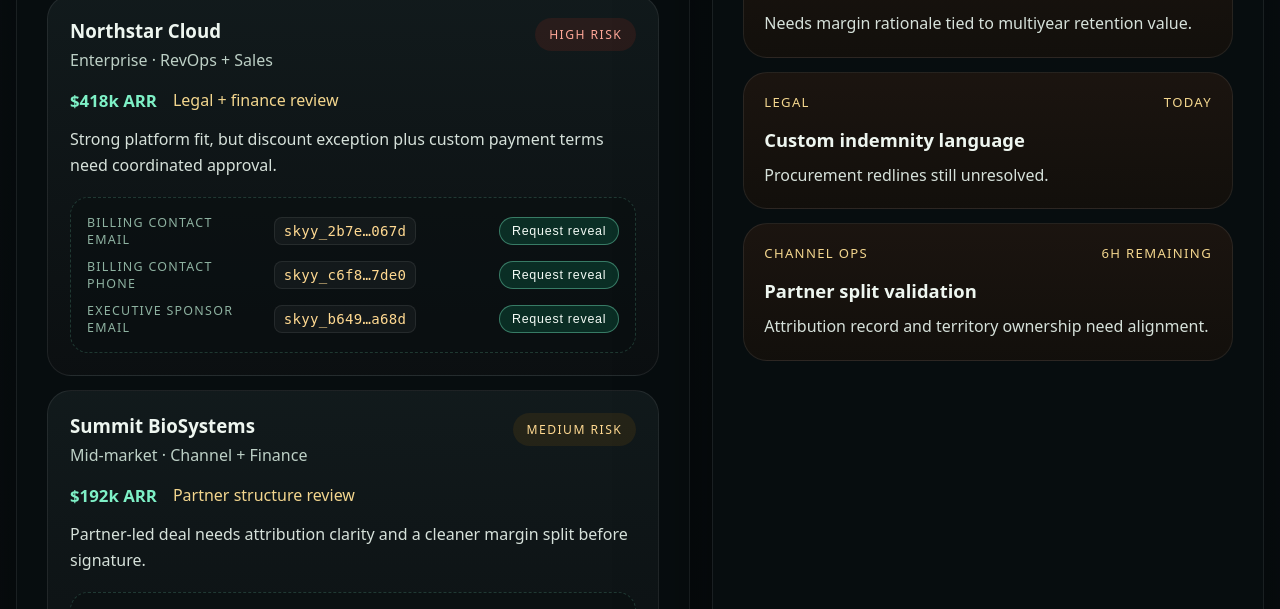
Deal Desk Workspace › blocks reveal for the default Sales Rep role and records a denial in the audit trail
(page scrolled)
Check: the text "skyy_2b7e…067d" is shown, box [274,217,416,245]
Step 1. Click the button with aria-label "reveal billing contact email" → (559, 231), box [499,217,619,245]
(page scrolled)
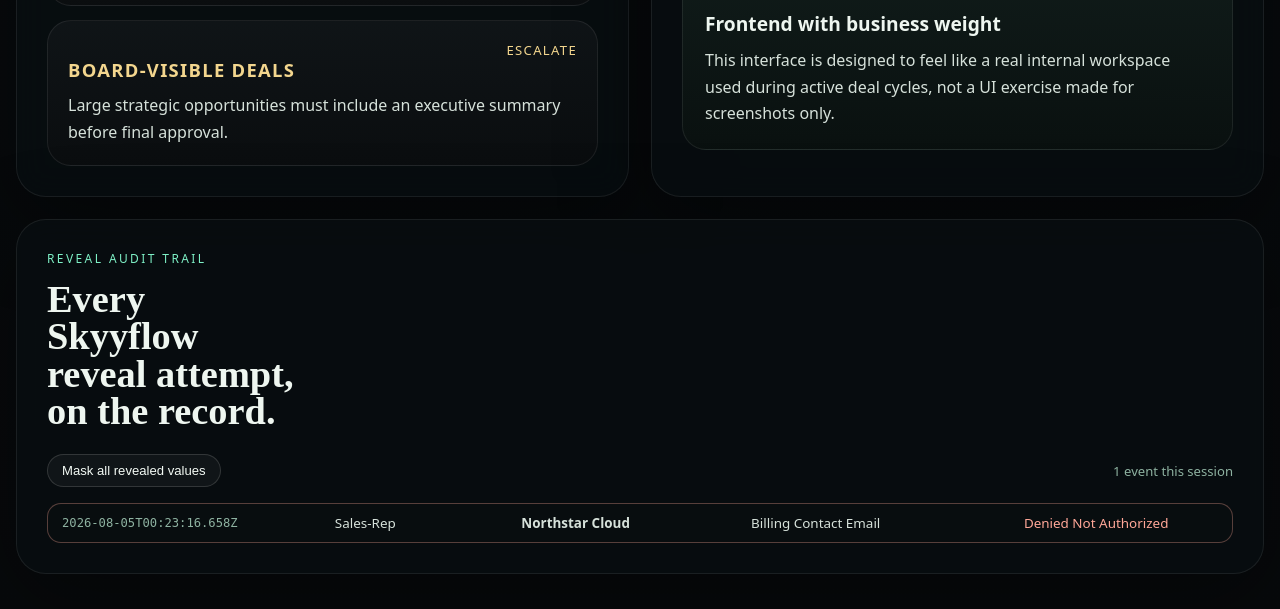
Check: the text "denied not authorized" is shown, box [1024,514,1168,532]
